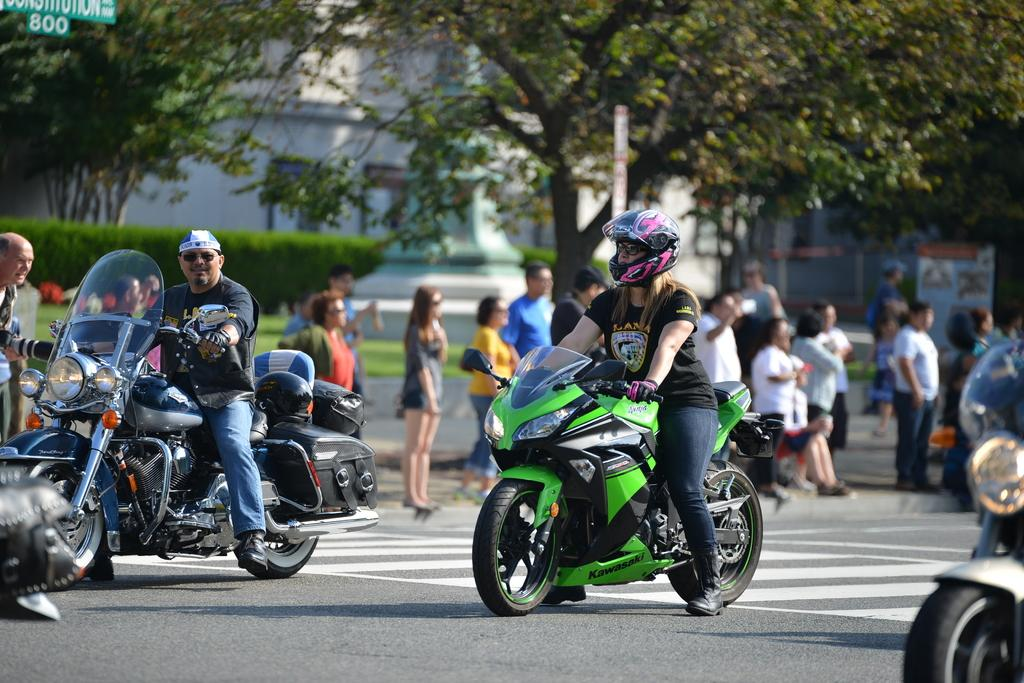helmet: (602, 209, 682, 287)
nohelmet: (177, 229, 225, 288), (0, 231, 35, 289), (311, 290, 349, 331), (477, 295, 512, 331), (412, 284, 445, 322), (524, 260, 556, 299), (326, 262, 355, 300), (762, 316, 792, 352), (796, 306, 826, 342), (907, 300, 936, 334), (880, 256, 908, 288), (741, 259, 767, 290), (969, 306, 995, 337)
